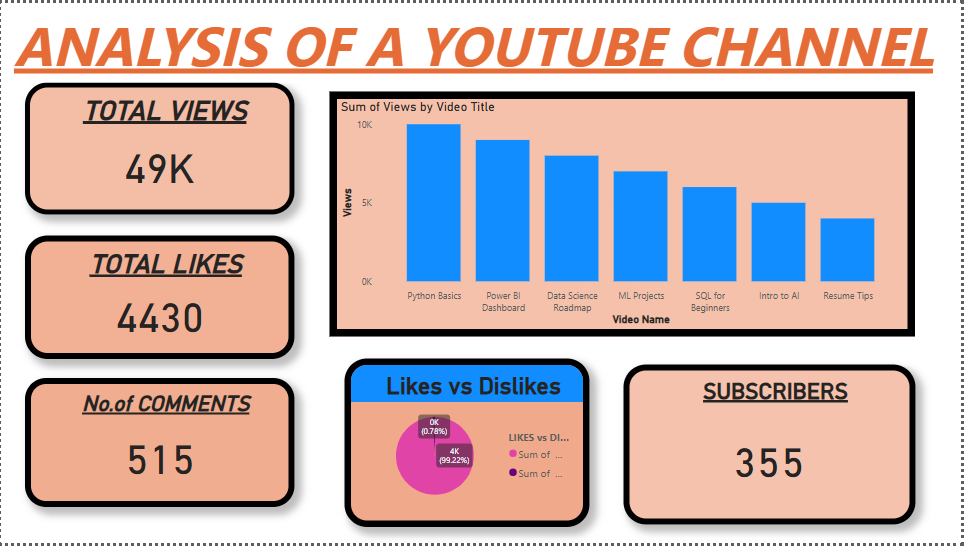

What the dashboard file says about the page in this screenshot:
{"tool":"powerbi","page":{"name":"Analysis","canvas":[1280,720],"ordinal":0},"visuals":[{"type":"card","title":"TOTAL  VIEWS","fields":{"Values":["Sum(youtube_data. Views)"]},"box":[32.1,105.8,359.1,175.7],"z":0},{"type":"card","title":"TOTAL LIKES","fields":{"Values":["Sum(youtube_data. Likes)"]},"box":[32.1,309.9,359.1,164.4],"z":1},{"type":"card","title":"No.of COMMENTS","fields":{"Values":["Sum(youtube_data. Comments)"]},"box":[32.1,500.8,359.1,172],"z":2},{"type":"lineStackedColumnComboChart","fields":{"Category":["youtube_data. Video Title"],"Y":["Sum(youtube_data. Views)"]},"box":[438.4,117.2,780.5,326.9],"z":3},{"type":"pieChart","title":"Likes vs Dislikes","fields":{"Y":["Sum(youtube_data. Likes)","Sum(youtube_data. Dislikes)"]},"box":[457.3,474.3,326.9,224.9],"z":4},{"type":"card","title":"SUBSCRIBERS","fields":{"Values":["Sum(youtube_data.Subscribers Gained)"]},"box":[829.6,481.9,389.3,213.5],"z":5},{"type":"textbox","box":[0,0,1260,106],"z":6}]}

Visuals, with their boxes in screenshot pixels (x1, y1, x2, y2), scaled from the page's 1280x720 canvas onto the 967x547 screenshot:
"TOTAL  VIEWS" card: bbox=[24, 80, 296, 214]
"TOTAL LIKES" card: bbox=[24, 235, 296, 360]
"No.of COMMENTS" card: bbox=[24, 380, 296, 511]
lineStackedColumnComboChart - youtube_data. Video Title x Sum(youtube_data. Views): bbox=[331, 89, 921, 337]
"Likes vs Dislikes" pieChart: bbox=[345, 360, 592, 531]
"SUBSCRIBERS" card: bbox=[627, 366, 921, 528]
textbox: bbox=[0, 0, 952, 81]
